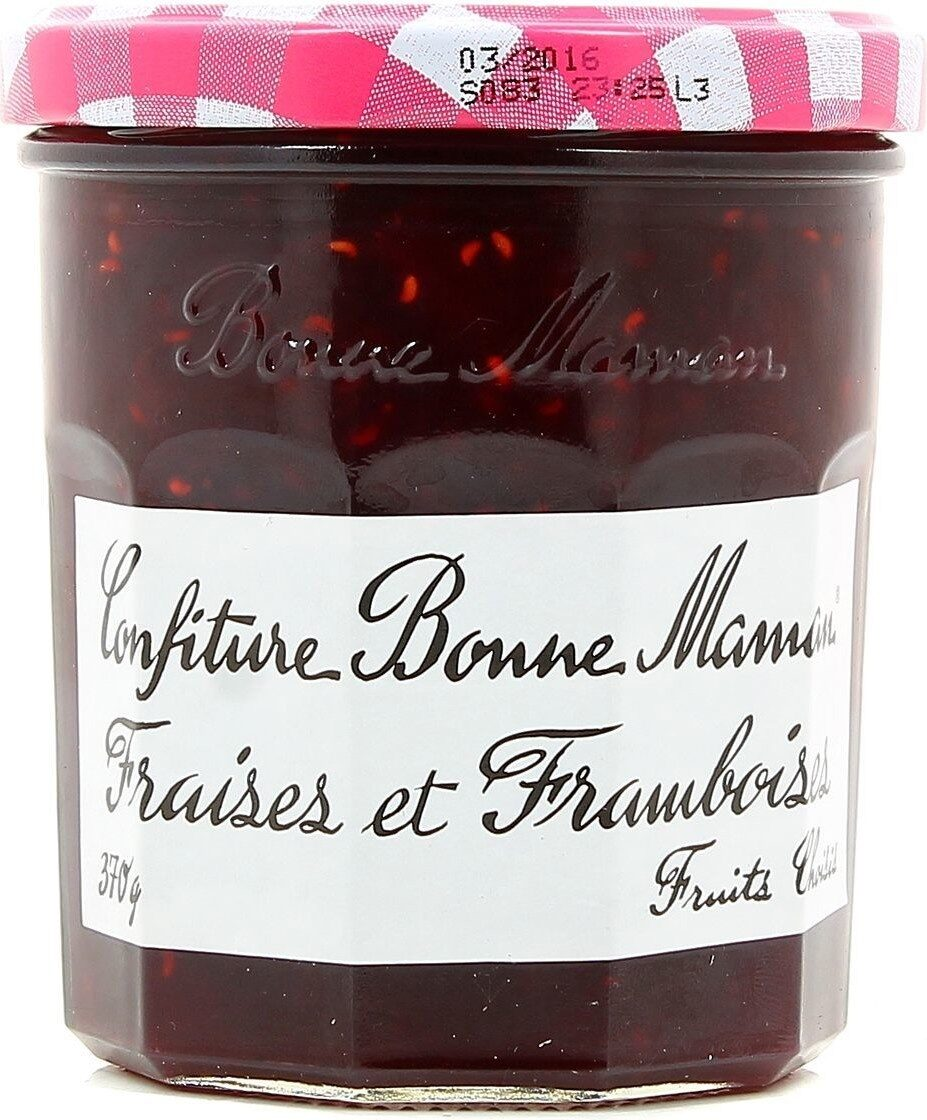Confiture fraises et framboises: (46, 56, 881, 1064)
